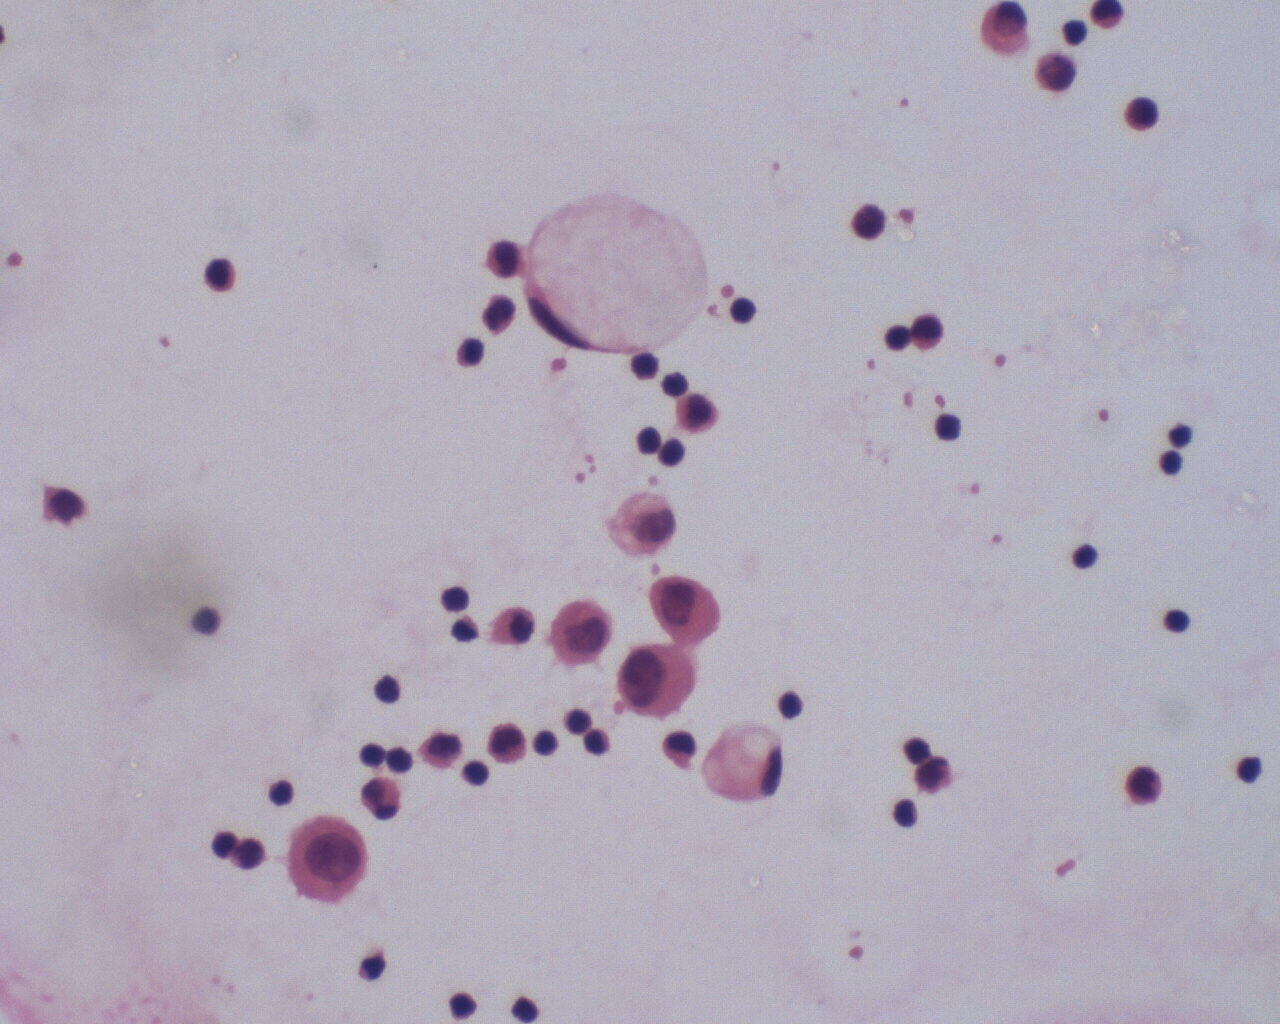histo: (525, 188, 713, 356), (698, 716, 786, 802)
lymph: (850, 202, 891, 245), (435, 579, 478, 619), (721, 290, 765, 329), (201, 256, 241, 294), (368, 670, 403, 704), (931, 409, 967, 443), (1163, 605, 1197, 639), (656, 435, 688, 470), (1070, 541, 1103, 574), (459, 758, 492, 787)
meso: (284, 815, 369, 908), (612, 642, 702, 722), (647, 568, 725, 646), (546, 595, 621, 670)
